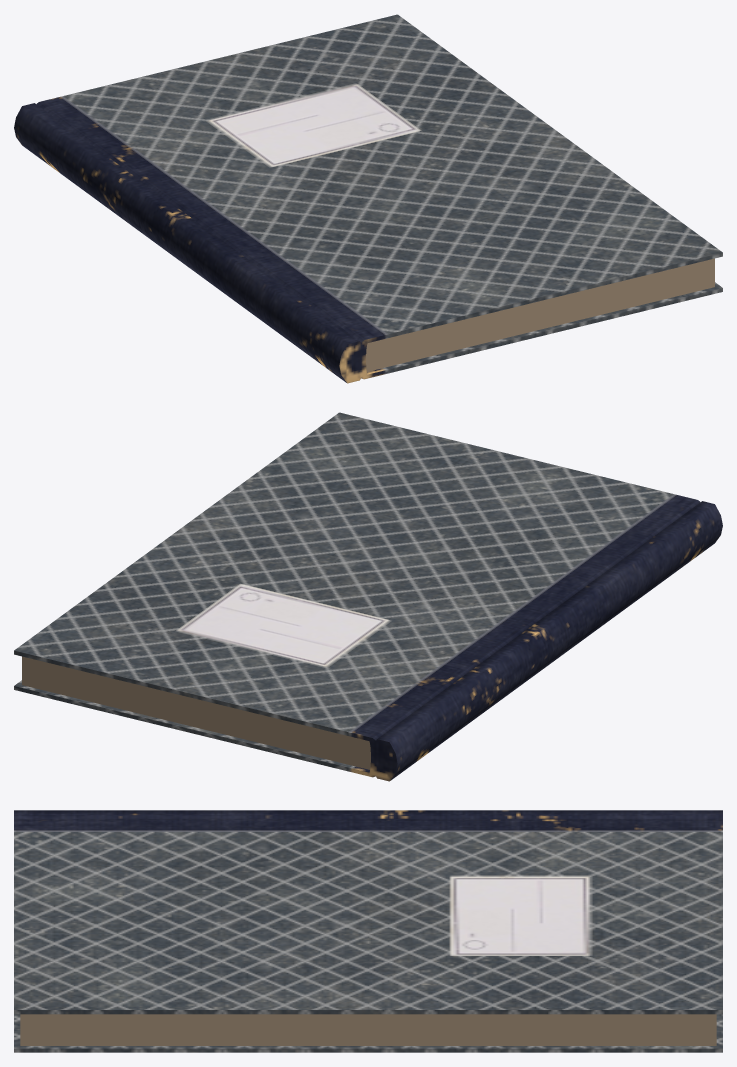
The model's file is SM_Notebook.fbx.
3 views of the same model, one above another, from view 1: azimuth 30°, elevation 25°; view 2: azimuth 150°, elevation 25°; view 3: azimuth 270°, elevation 25° (orthographic). The views are drawn at different scales.
Visible parts, largest first — view 1: SM_Notebook; view 2: SM_Notebook; view 3: SM_Notebook.
Boxes of the visible parts, x1,y1,x2,y2 form: SM_Notebook: [14, 14, 722, 383]; SM_Notebook: [14, 412, 722, 781]; SM_Notebook: [14, 810, 722, 1052].
Size of the model in its own units: 30.64 by 45 by 3.
1 material, 1 textured.
